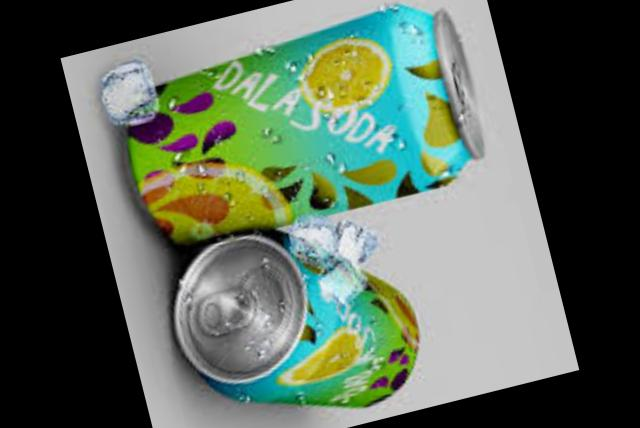metal: (108, 2, 483, 242), (175, 219, 420, 405)
